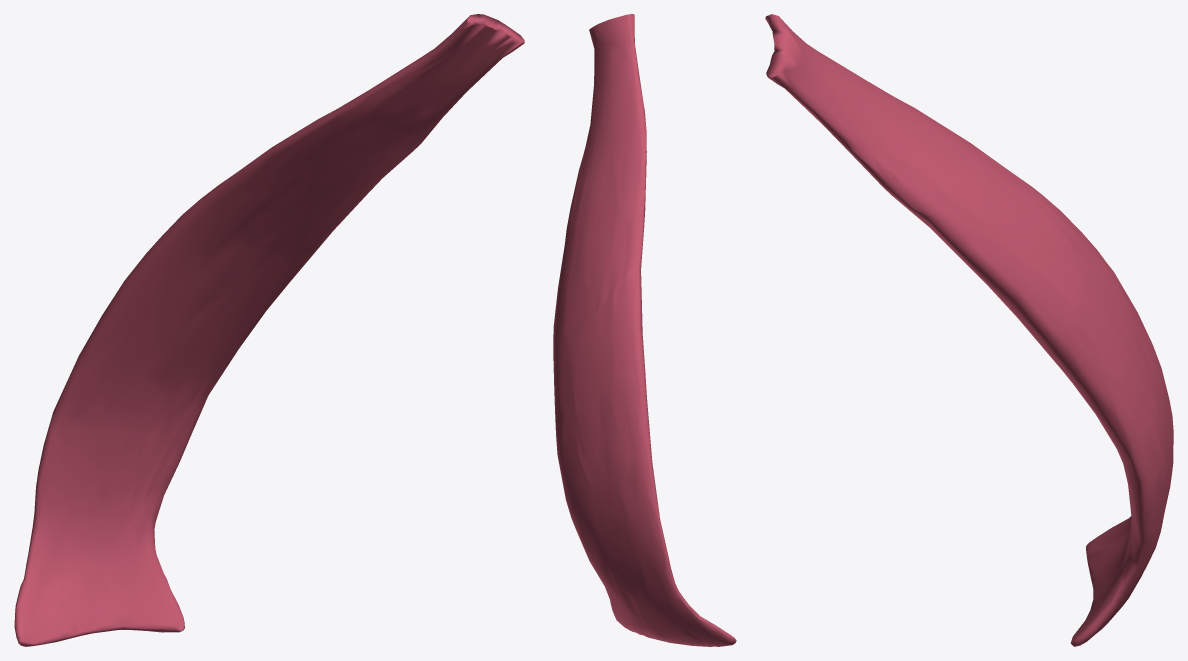
3 renders of one model, left to right at view 1: azimuth 30°, elevation 25°; view 2: azimuth 150°, elevation 25°; view 3: azimuth 270°, elevation 25°, orthographic. The views are drawn at different scales.
Parts seen in each view (by area): view 1: 右侧下直肌; view 2: 右侧下直肌; view 3: 右侧下直肌.
Part boxes in pixels (left/top/right/bottom): 右侧下直肌: left=14, top=14, right=524, bottom=646; 右侧下直肌: left=553, top=14, right=736, bottom=646; 右侧下直肌: left=765, top=14, right=1173, bottom=646.
Size of the model in its own units: 0.0327 by 0.0611 by 0.0321.
